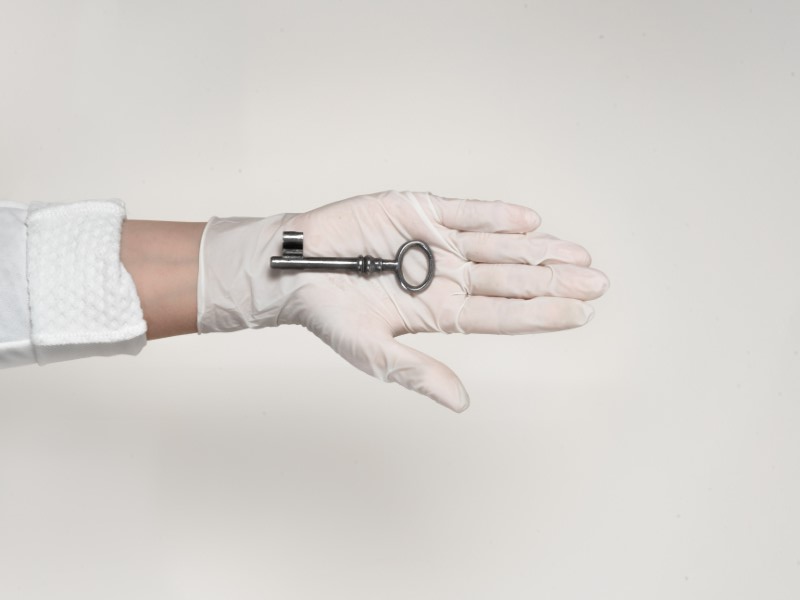key: (267, 229, 437, 298)
